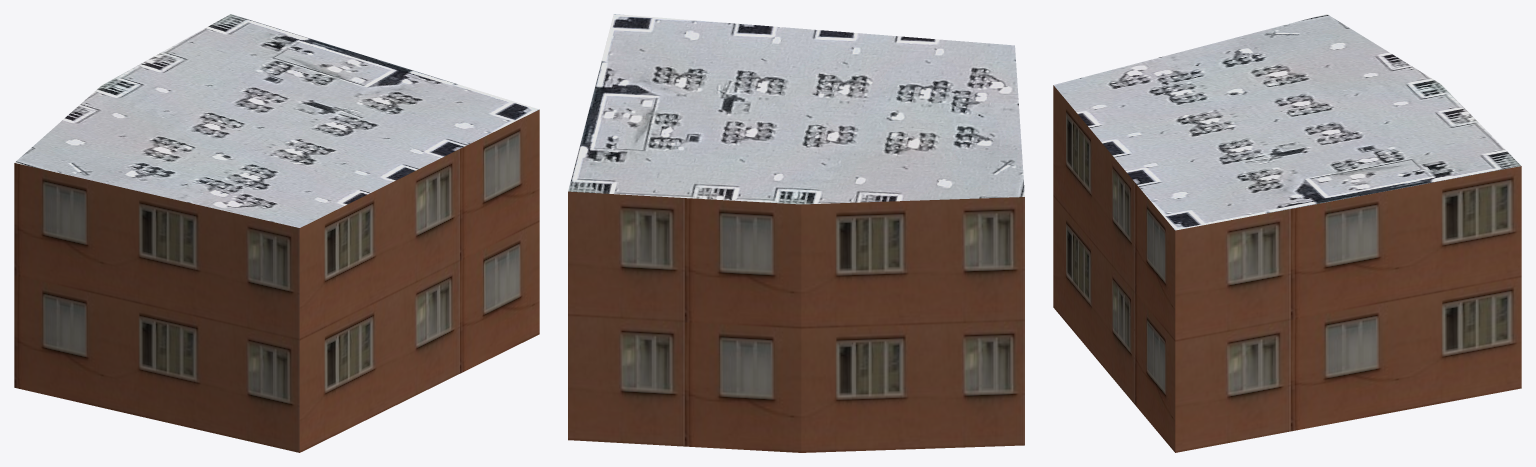
Rendered from ResTex__2483.fbx.
The picture shows the model from 3 angles, left to right: view 1: azimuth 30°, elevation 25°; view 2: azimuth 150°, elevation 25°; view 3: azimuth 270°, elevation 25°; orthographic projection. The views are drawn at different scales.
Parts seen in each view (by area): view 1: CityEngineMaterial_20_m, CityEngineMaterial_8_m; view 2: CityEngineMaterial_20_m, CityEngineMaterial_8_m; view 3: CityEngineMaterial_20_m, CityEngineMaterial_8_m.
Part boxes in pixels (box(x1,y1,x2,y2)): CityEngineMaterial_20_m: box(14, 109, 539, 452); CityEngineMaterial_8_m: box(14, 14, 539, 227); CityEngineMaterial_20_m: box(568, 191, 1024, 452); CityEngineMaterial_8_m: box(568, 14, 1024, 204); CityEngineMaterial_20_m: box(1053, 85, 1521, 452); CityEngineMaterial_8_m: box(1053, 14, 1520, 230).
Size of the model in its own units: 12.53 by 6 by 11.45.
Materials: 2 (2 with a texture image).
